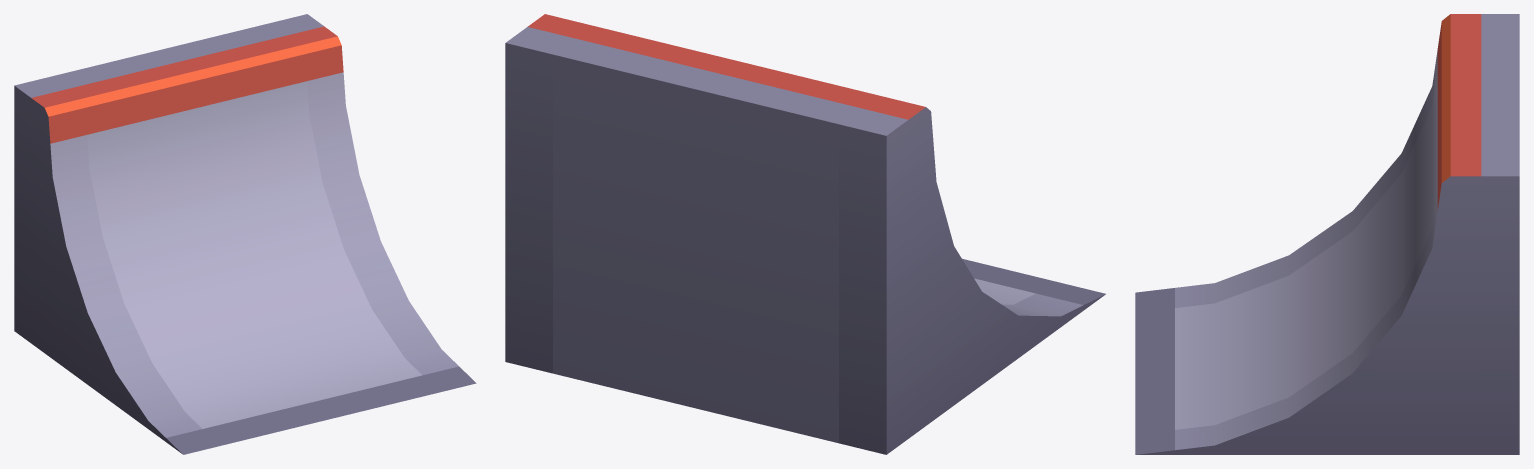
Rendered from bowl-side.glb.
The picture shows the model from 3 angles, left to right: view 1: azimuth 30°, elevation 25°; view 2: azimuth 150°, elevation 25°; view 3: azimuth 270°, elevation 25°; orthographic projection. The views are drawn at different scales.
Visible parts, largest first — view 1: bowl-side; view 2: bowl-side; view 3: bowl-side.
Boxes of the visible parts, <box> form: bowl-side: <box>14,14,476,454</box>; bowl-side: <box>505,14,1105,454</box>; bowl-side: <box>1135,14,1519,454</box>.
Size of the model in its own units: 1 by 0.8 by 1.
1 material, 1 textured.
